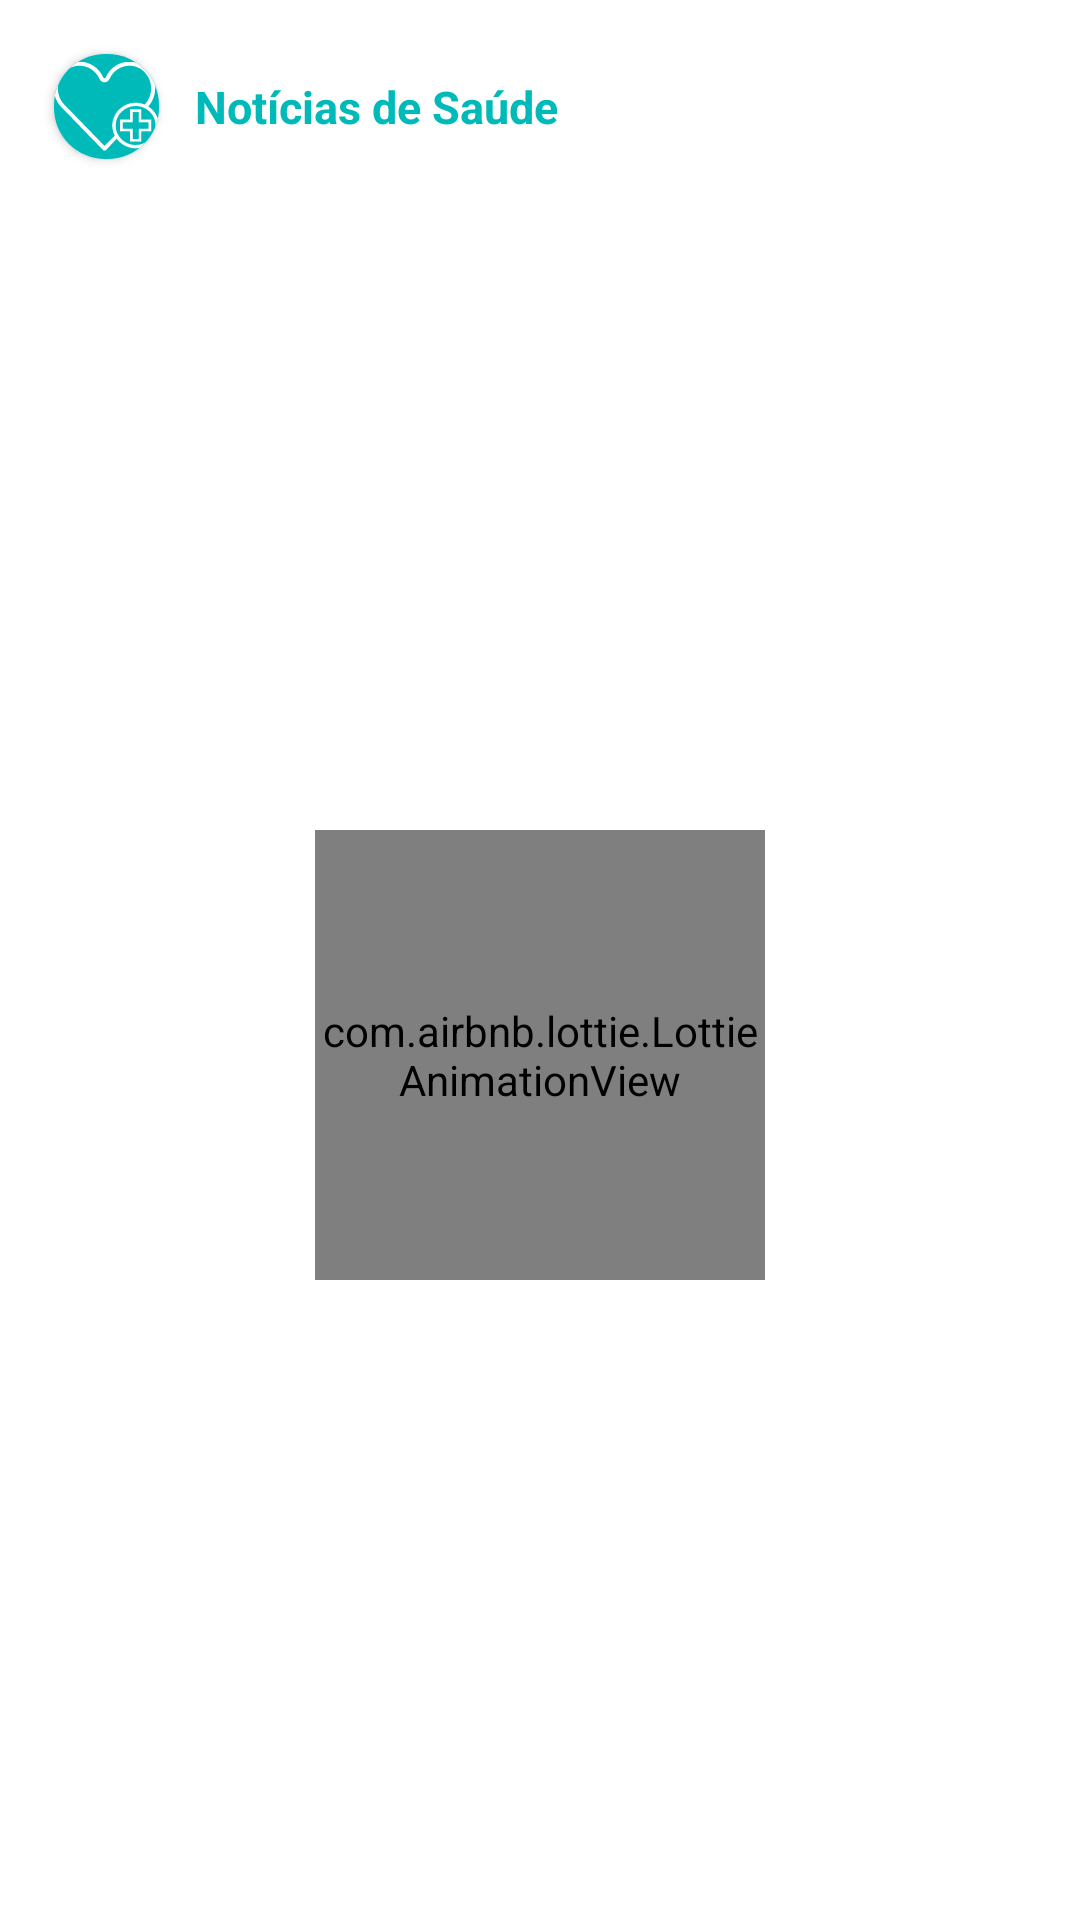

Where to tap for icons on this 1080×1920 app screen, as (x=x, y=y):
health: (x=106, y=106)
